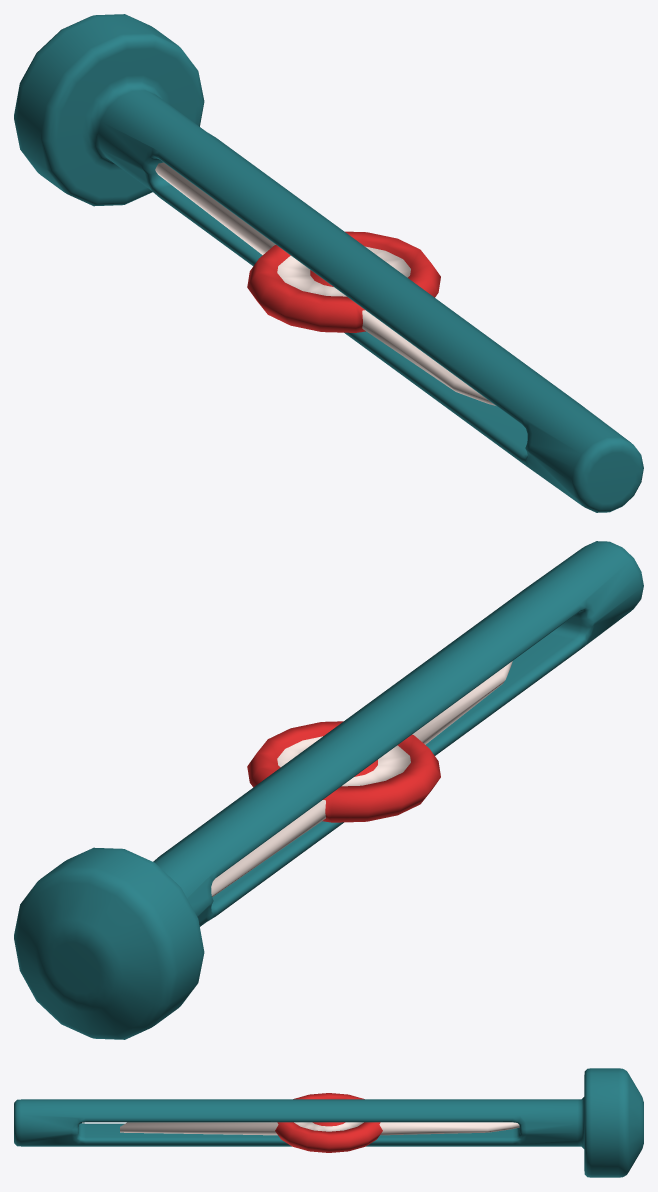
The model's file is Cutter4.fbx.
The picture shows the model from 3 angles, top to bottom: view 1: azimuth 30°, elevation 25°; view 2: azimuth 150°, elevation 25°; view 3: azimuth 270°, elevation 25°; orthographic projection. The views are drawn at different scales.
Visible parts, largest first — view 1: Cylinder.010, Cylinder.011; view 2: Cylinder.010, Cylinder.011; view 3: Cylinder.010, Cylinder.011.
Part boxes in pixels (x1=…): Cylinder.010: x1=14, y1=14, x2=643, y2=512; Cylinder.011: x1=155, y1=162, x2=495, y2=405; Cylinder.010: x1=14, y1=541, x2=643, y2=1039; Cylinder.011: x1=211, y1=661, x2=512, y2=896; Cylinder.010: x1=14, y1=1068, x2=643, y2=1177; Cylinder.011: x1=120, y1=1093, x2=519, y2=1152.
Size of the model in its own units: 1.71 by 1.62 by 9.36.
